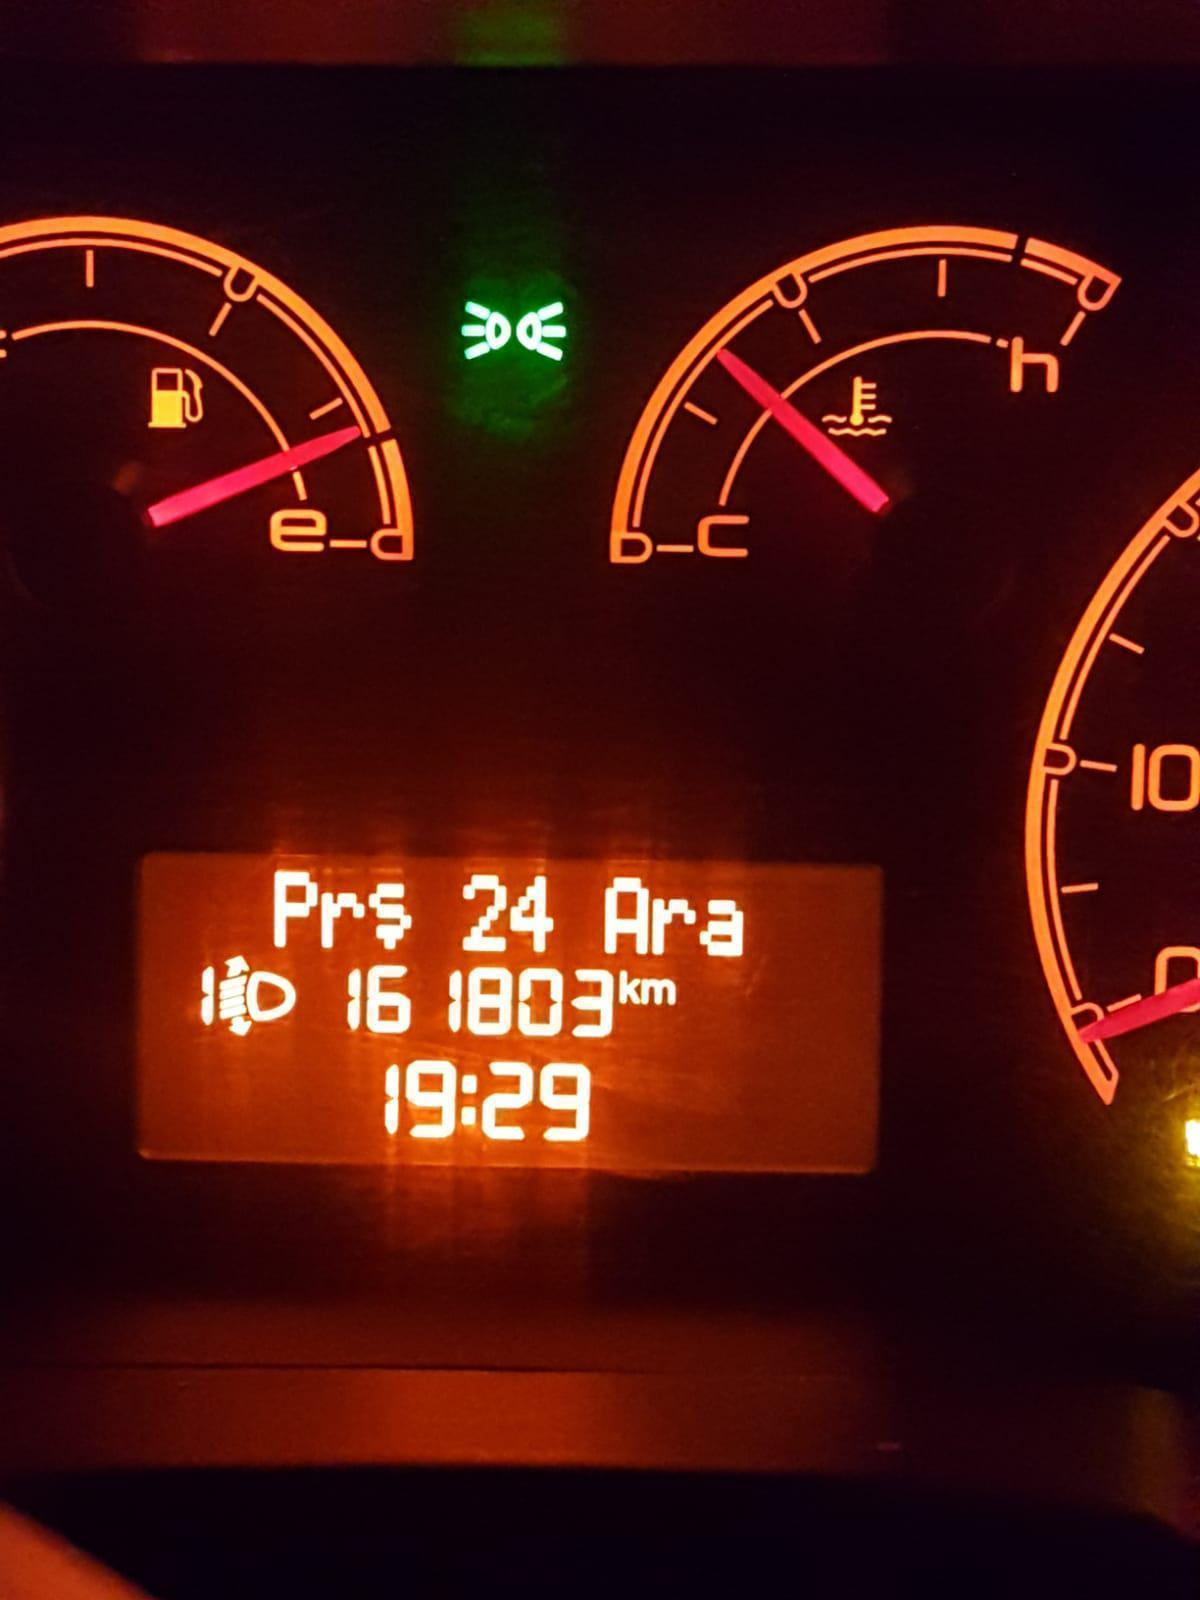0: (518, 965, 563, 1039)
1: (378, 1053, 403, 1148), (193, 955, 216, 1044), (444, 963, 466, 1041), (343, 963, 363, 1034)
2: (482, 1056, 531, 1143), (458, 871, 505, 952)
3: (574, 965, 614, 1044)
4: (512, 872, 558, 952)
6: (366, 963, 412, 1034)
8: (468, 961, 514, 1037)
9: (538, 1056, 592, 1141), (408, 1054, 455, 1140)
X: (266, 863, 313, 947), (603, 874, 648, 952), (697, 893, 747, 963), (369, 876, 415, 951), (319, 886, 362, 952), (652, 893, 691, 951), (458, 1062, 479, 1133), (642, 973, 679, 1008), (618, 968, 638, 1008)
odometer: (125, 840, 901, 1186)
